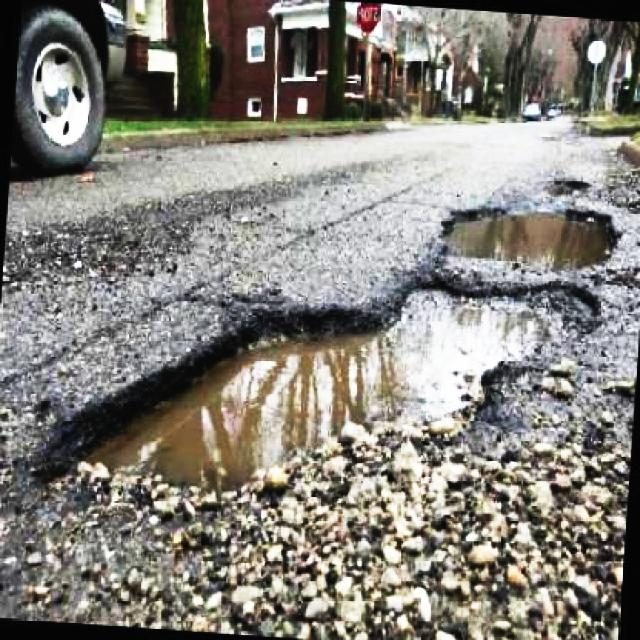pothole: (31, 281, 624, 514), (423, 180, 622, 277)
